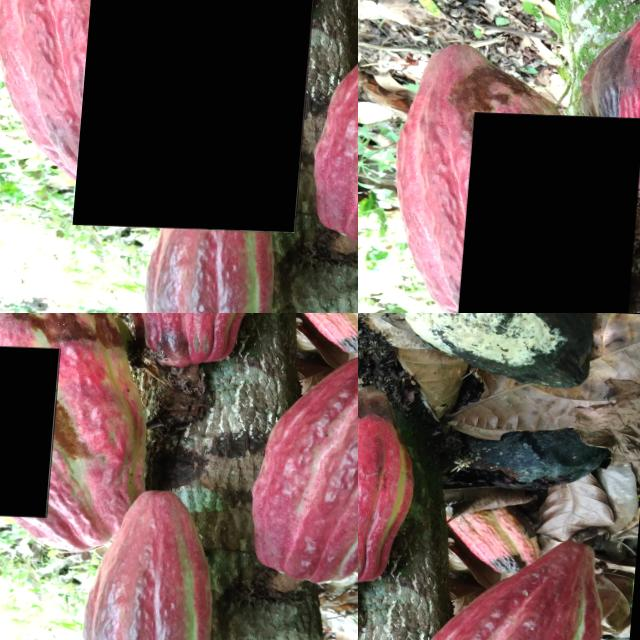Fitoftora: (462, 110, 640, 313), (358, 387, 416, 586)
Monilia: (405, 313, 556, 361)
Sana: (81, 0, 328, 229), (401, 532, 603, 640), (572, 50, 640, 251), (0, 343, 65, 515)
